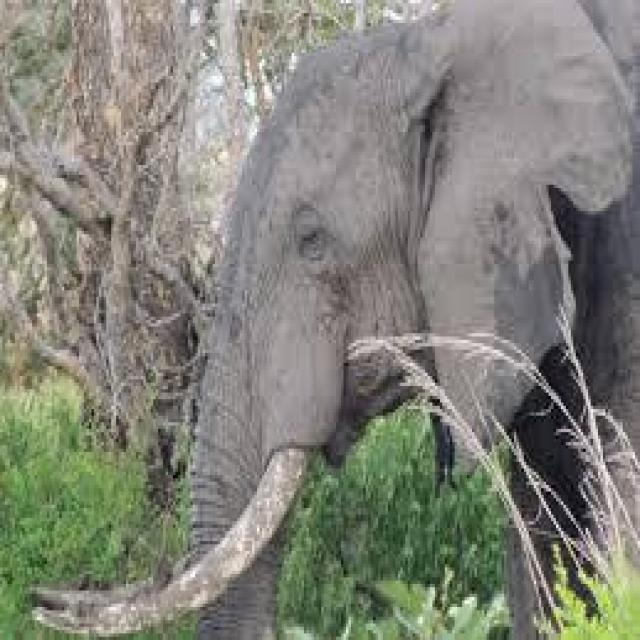Elephant: (178, 0, 635, 633)
